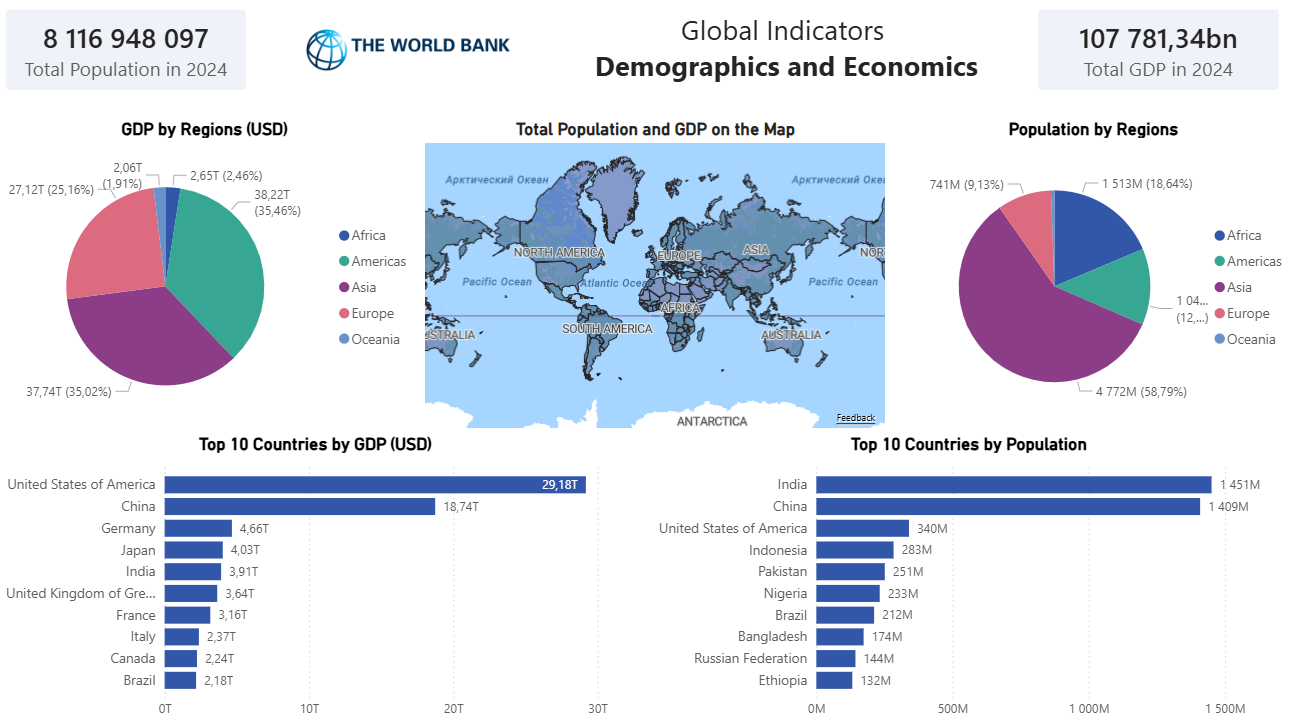

What the dashboard file says about the page in this screenshot:
{"tool":"powerbi","page":{"name":"2024","canvas":[1280,720],"ordinal":2},"visuals":[{"type":"pieChart","title":"GDP by Regions (USD)","fields":{"Y":["Sum(df_economics.gdp)"],"Series":["regions.region"]},"box":[0,123.7,423.4,308.4],"z":0},{"type":"cardVisual","fields":{"Data":["Sum(df_population.total_population)"]},"box":[0,0,270.2,113.7],"z":1000},{"type":"cardVisual","fields":{"Data":["Sum(df_economics.gdp)"]},"box":[1010.1,0,270.2,113.7],"z":2000},{"type":"pieChart","title":"Population by Regions","fields":{"Series":["regions.region"],"Y":["Sum(df_population.total_population)"]},"box":[883.1,123.7,397.2,308.4],"z":3000},{"type":"image","box":[270.6,0,282.2,113.5],"z":4000},{"type":"textbox","box":[552.9,13.1,456.8,90.2],"z":5000},{"type":"barChart","title":"Top 10 Countries by GDP (USD)","fields":{"Y":["Sum(df_economics.gdp)"],"Category":["regions.name"]},"box":[0,432.1,640.1,288.1],"z":6000},{"type":"barChart","title":"Top 10 Countries by Population","fields":{"Category":["regions.name"],"Y":["Sum(df_population.total_population)"]},"box":[640.1,432.1,640.1,288.1],"z":7000},{"type":"azureMap","title":"Total Population and GDP on the Map","fields":{"Category":["regions.country_code"]},"box":[423.4,123.7,459.7,308.4],"z":8000}]}

Visuals, with their boxes in screenshot pixels (x1, y1, x2, y2), scaled from the page's 1280x720 canvas onto the 1292x723 screenshot:
"GDP by Regions (USD)" pieChart: detection(0, 124, 427, 434)
cardVisual - Sum(df_population.total_population): detection(0, 0, 273, 114)
cardVisual - Sum(df_economics.gdp): detection(1020, 0, 1291, 114)
"Population by Regions" pieChart: detection(891, 124, 1291, 434)
image: detection(273, 0, 558, 114)
textbox: detection(558, 13, 1019, 104)
"Top 10 Countries by GDP (USD)" barChart: detection(0, 434, 646, 722)
"Top 10 Countries by Population" barChart: detection(646, 434, 1291, 722)
"Total Population and GDP on the Map" azureMap: detection(427, 124, 891, 434)
